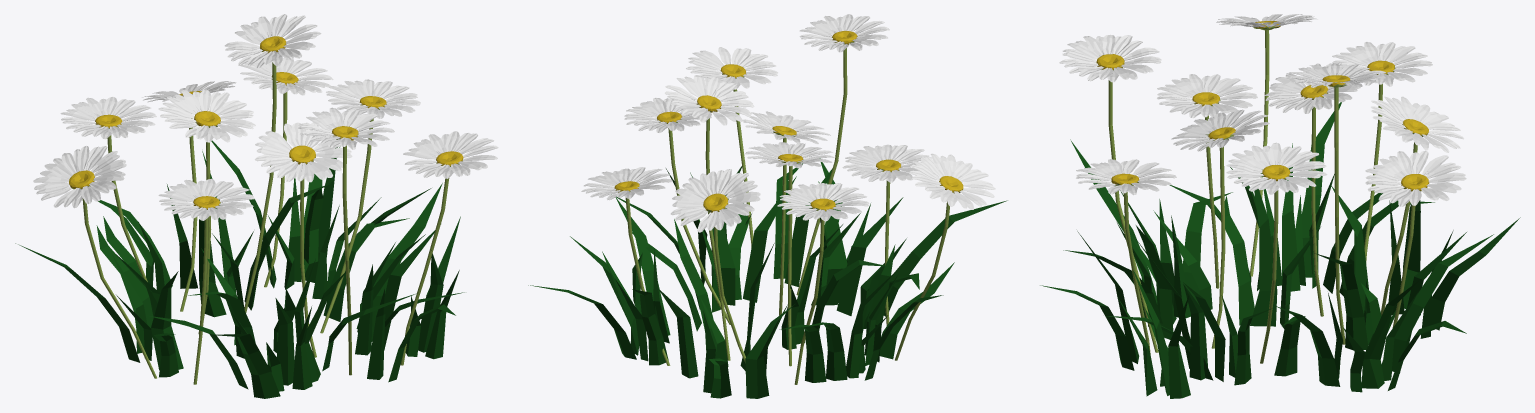
Rendered from fiori1.fbx.
3 views of the same model, side by side, from view 1: azimuth 30°, elevation 25°; view 2: azimuth 150°, elevation 25°; view 3: azimuth 270°, elevation 25° (orthographic). The views are drawn at different scales.
Parts seen in each view (by area): view 1: flower; view 2: flower; view 3: flower.
Boxes of the visible parts, x1,y1,x2,y2 form: flower: (15,14,498,398); flower: (528,14,1007,398); flower: (1040,14,1520,398).
Size of the model in its own units: 53.48 by 35.3 by 53.04.
